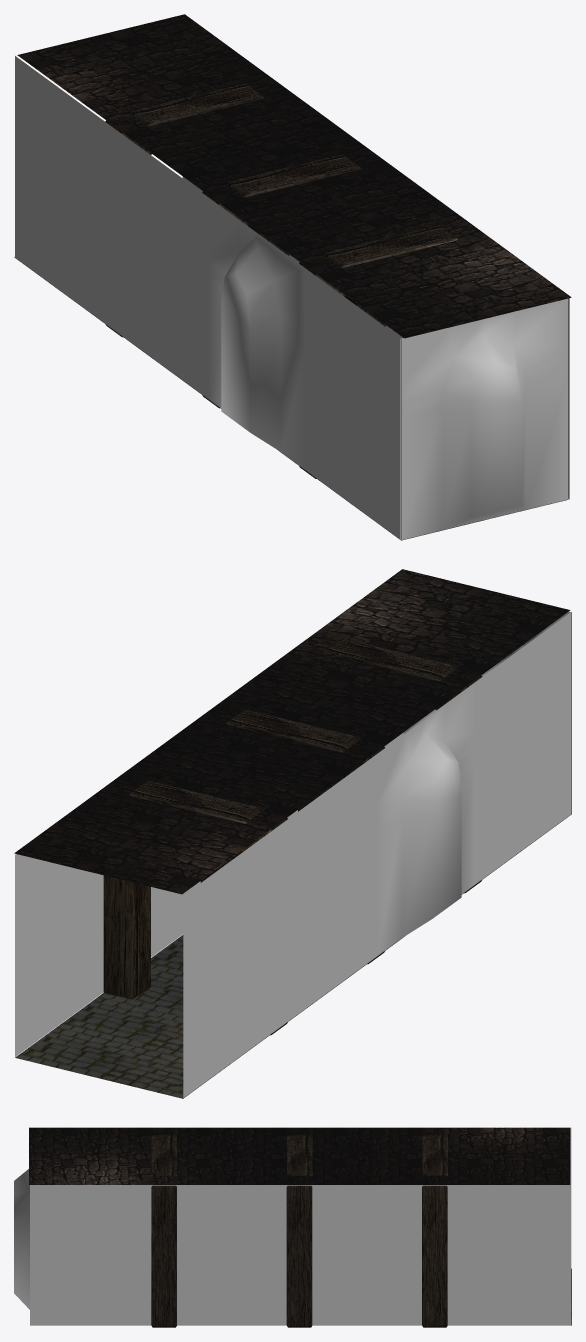
File: corredor01.fbx
The picture shows the model from 3 angles, top to bottom: view 1: azimuth 30°, elevation 25°; view 2: azimuth 150°, elevation 25°; view 3: azimuth 270°, elevation 25°; orthographic projection. The views are drawn at different scales.
Visible parts, largest first — view 1: castle_wall01, castle_ceiling01, castle_beam01; view 2: castle_wall01, castle_ceiling01, castle_floor01, castle_beam01; view 3: castle_wall01, castle_ceiling01, castle_beam01.
Boxes of the visible parts, <box> form: castle_wall01: <box>15,56,569,540</box>; castle_ceiling01: <box>17,14,571,338</box>; castle_beam01: <box>105,83,457,478</box>; castle_wall01: <box>15,611,571,1097</box>; castle_ceiling01: <box>14,569,570,894</box>; castle_floor01: <box>15,815,570,1098</box>; castle_beam01: <box>103,638,482,1035</box>; castle_wall01: <box>14,1127,571,1325</box>; castle_ceiling01: <box>29,1127,570,1184</box>; castle_beam01: <box>151,1135,447,1327</box>.
Bounding box in the file's own units: 227 × 237 × 825.
